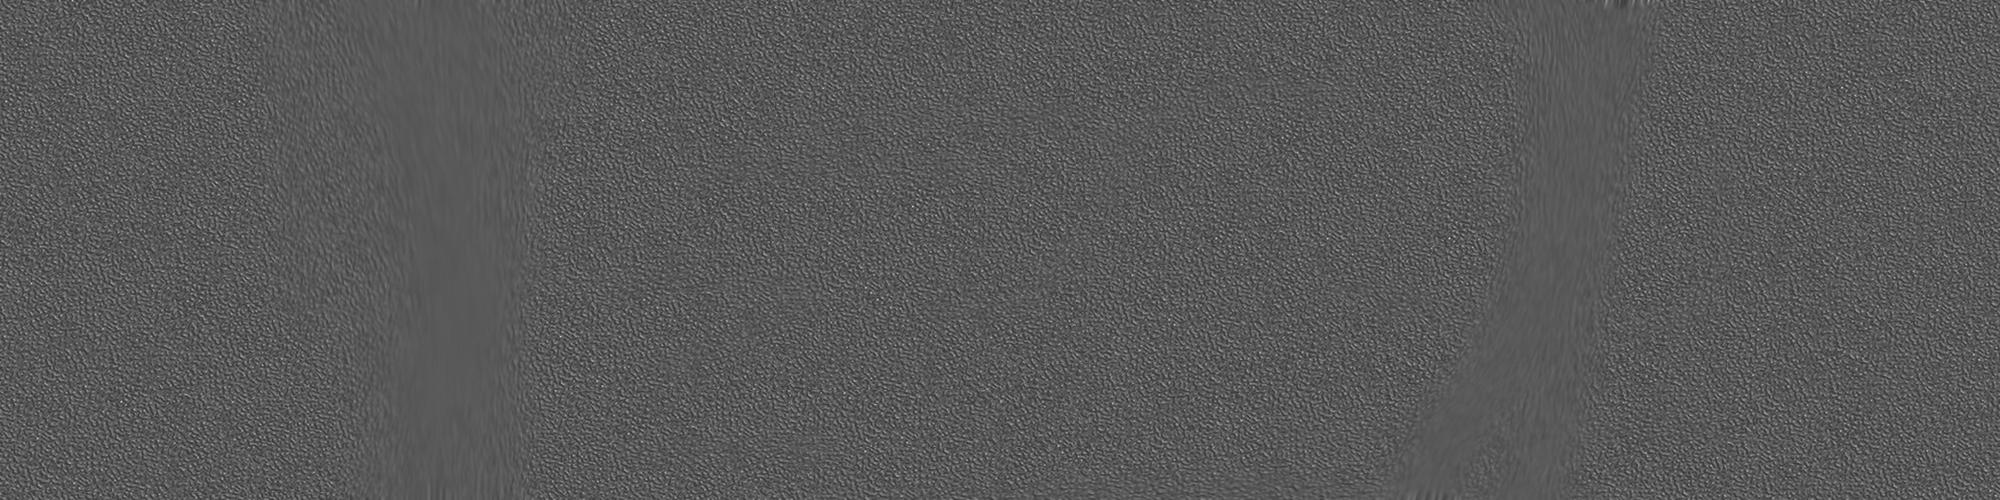Flow_Lines: (301, 6, 580, 494), (1392, 3, 1648, 489)
